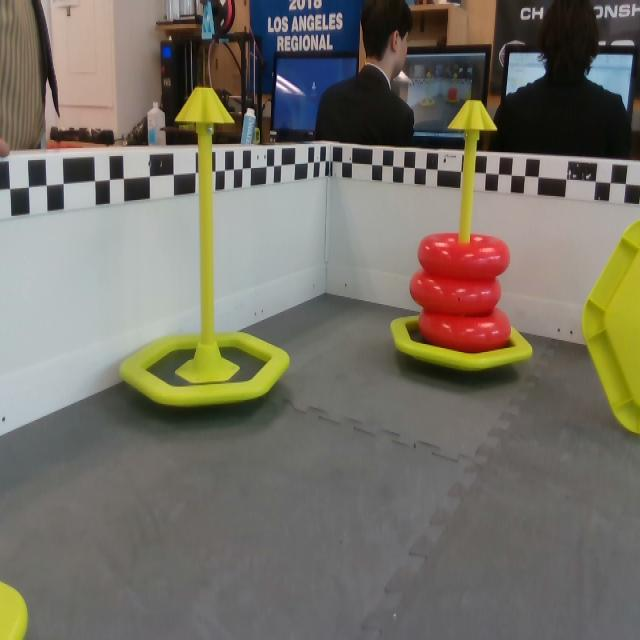Mobile-Goal: (119, 87, 295, 416), (386, 96, 535, 377), (574, 224, 639, 443), (0, 577, 32, 639)
Red-Ring: (408, 269, 506, 317), (420, 231, 512, 282), (419, 308, 513, 352)
Yellow-Stake-Head: (175, 86, 236, 127), (449, 100, 498, 132)
